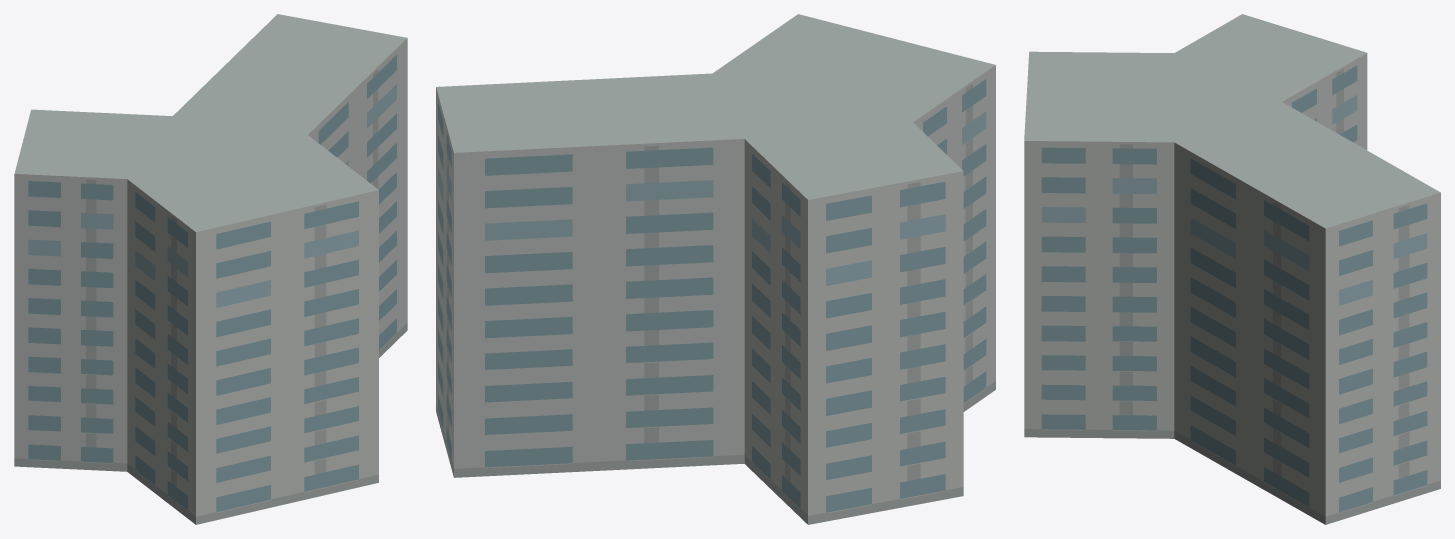
Rendered from residential-46abb190-30c6-4336-9213-d13bea84e5b4.glb.
3 views of the same model, side by side, from view 1: azimuth 30°, elevation 25°; view 2: azimuth 150°, elevation 25°; view 3: azimuth 270°, elevation 25° (orthographic). The views are drawn at different scales.
Parts seen in each view (by area): view 1: residential-46abb190-30c6-4336-9213-d13bea84e5b4.tmp; view 2: residential-46abb190-30c6-4336-9213-d13bea84e5b4.tmp; view 3: residential-46abb190-30c6-4336-9213-d13bea84e5b4.tmp.
Part boxes in pixels (x1,y1,x2,y2): residential-46abb190-30c6-4336-9213-d13bea84e5b4.tmp: [14, 14, 407, 524]; residential-46abb190-30c6-4336-9213-d13bea84e5b4.tmp: [436, 14, 995, 524]; residential-46abb190-30c6-4336-9213-d13bea84e5b4.tmp: [1024, 14, 1440, 524].
Size of the model in its own units: 45.03 by 29 by 36.96.
